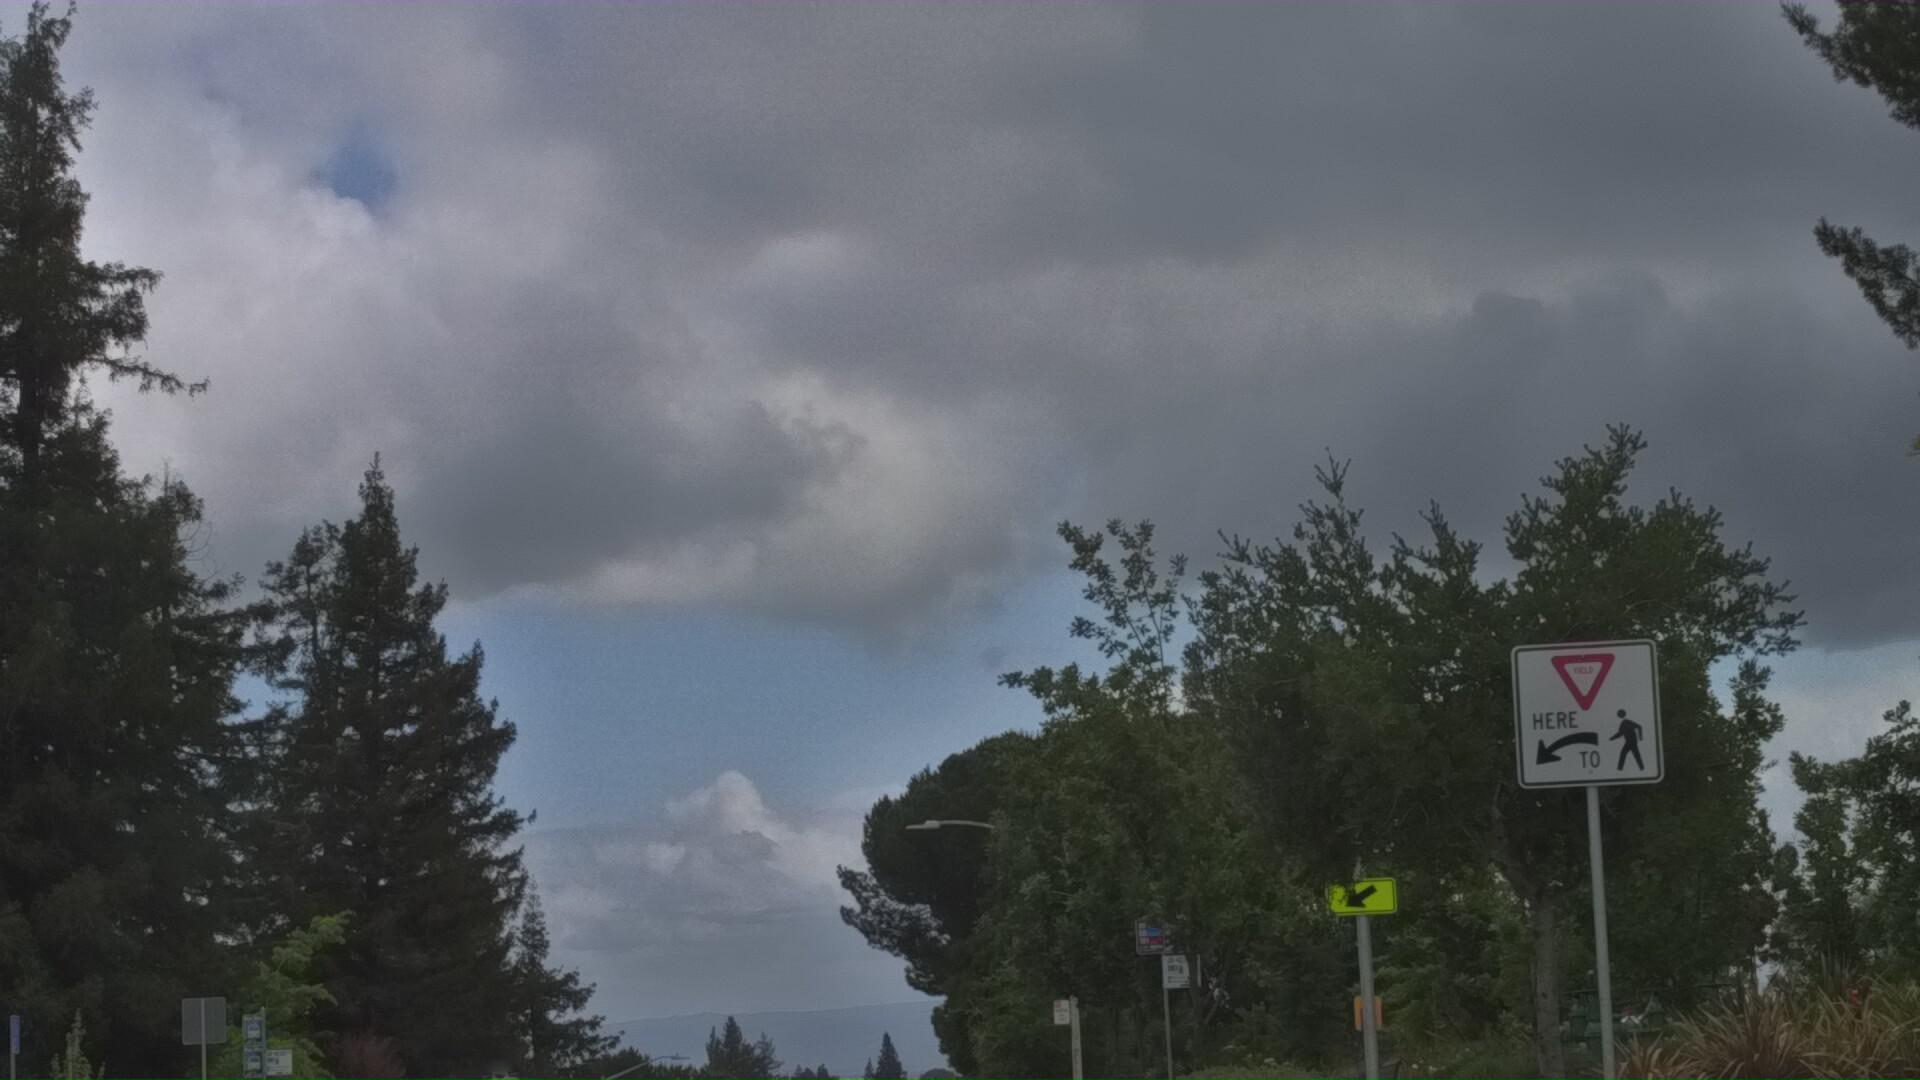car: (426, 1065, 580, 1080)
